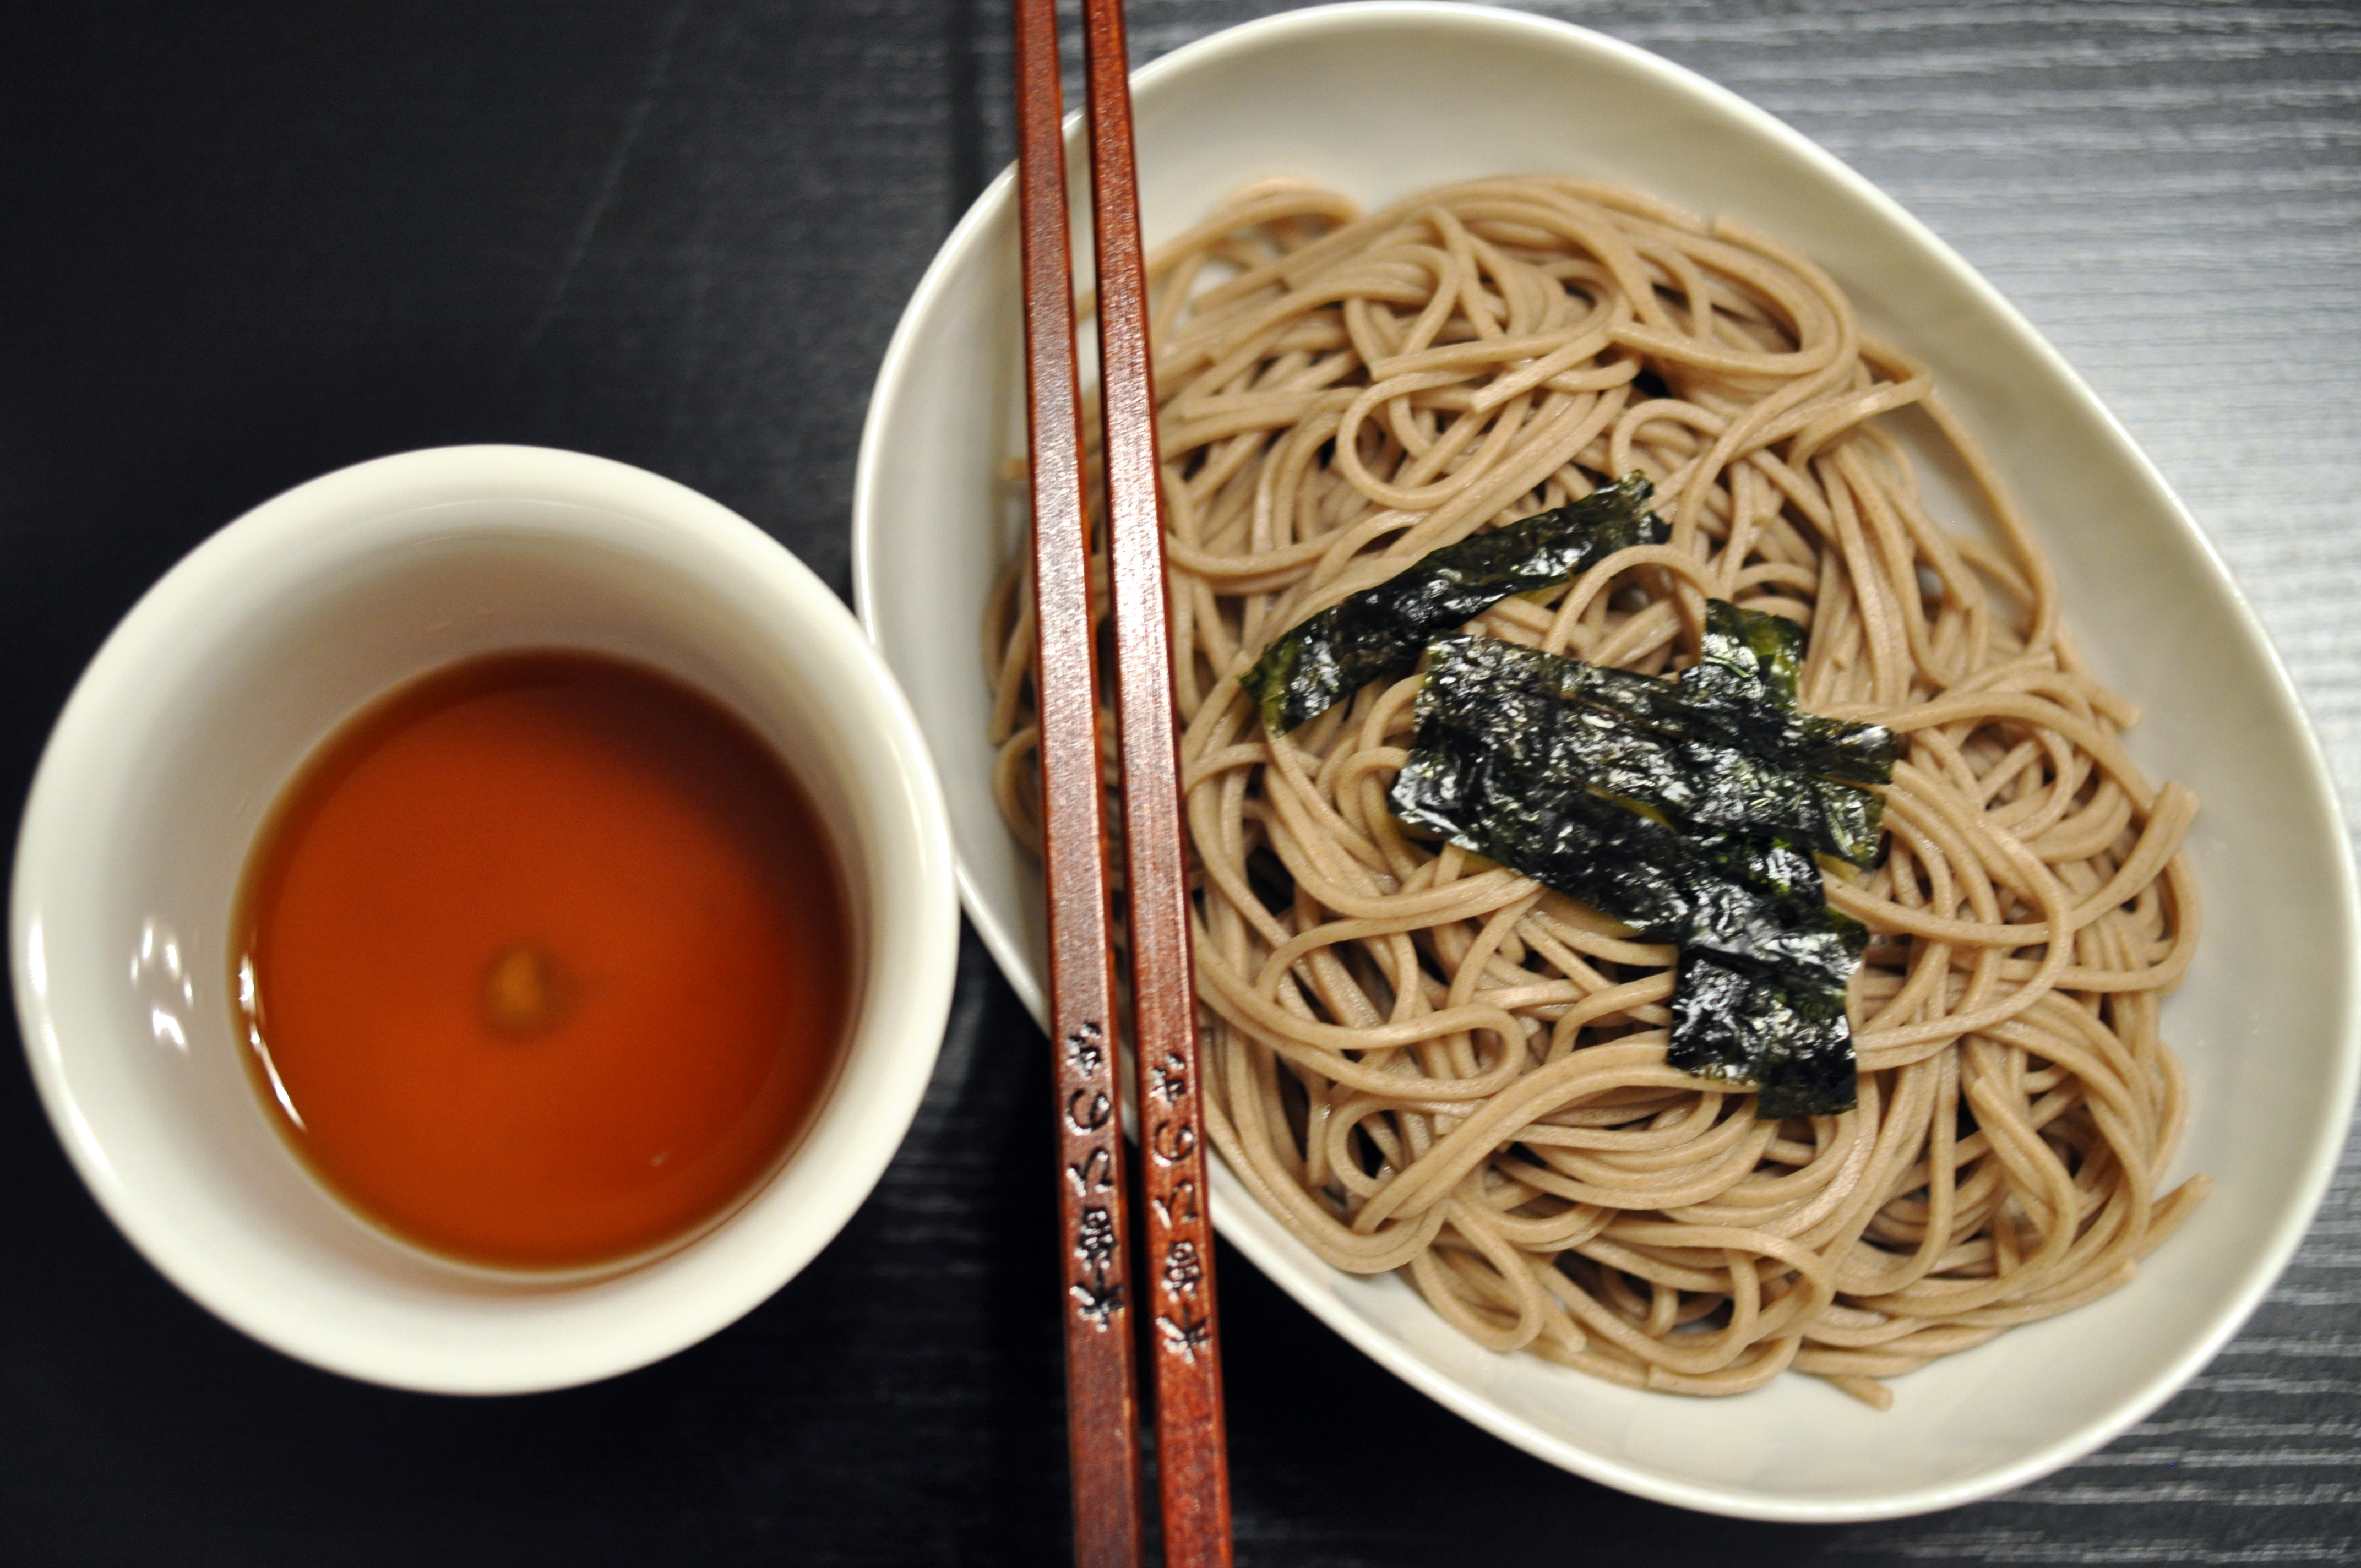Soba: (1148, 205, 2226, 1340)
